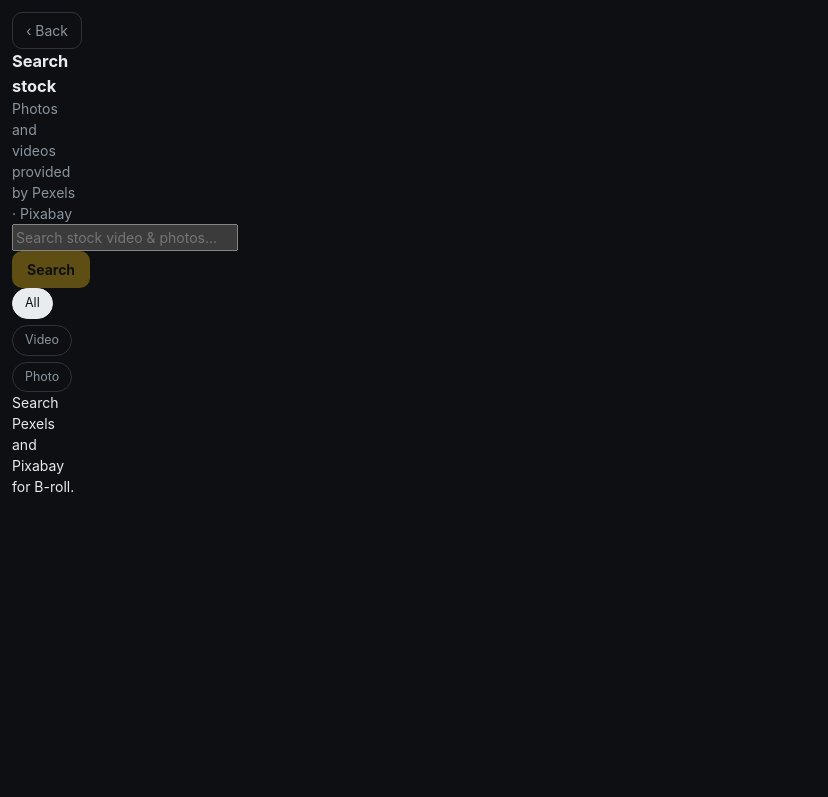
Test: StockPanel: search results grid › shows a friendly empty state and surfaces per-provider errors as toasts
This screenshot has width=828, height=797.
In the field with placeholder "Search stock video & photos…": [125, 238] box [12,224,238,251], type "xyzzy"
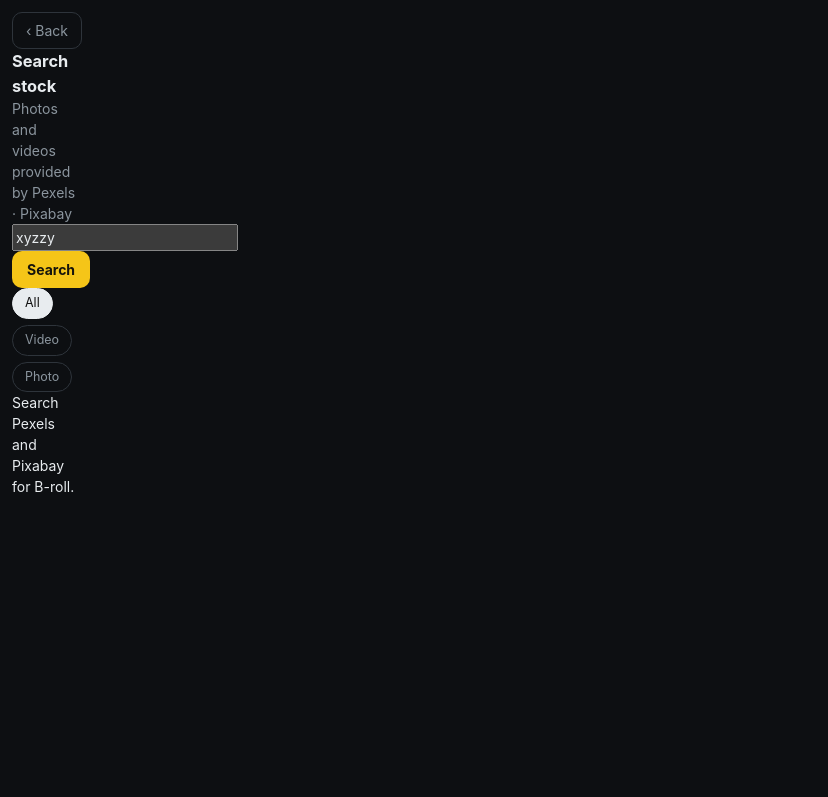
Click the button "Search": [51, 270] box [12,251,90,288]
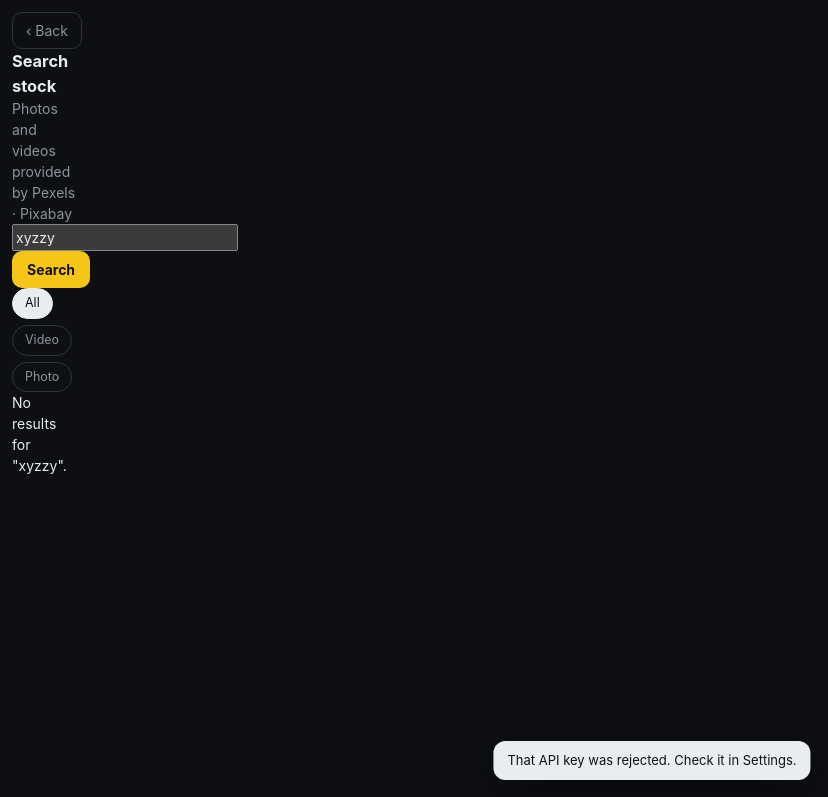
Now the text "No results for \"xyzzy\"." is shown, box [12,392,76,476]
Now the message reads "That API key was rejected. Check it in Settings.", box [507,752,796,768]
